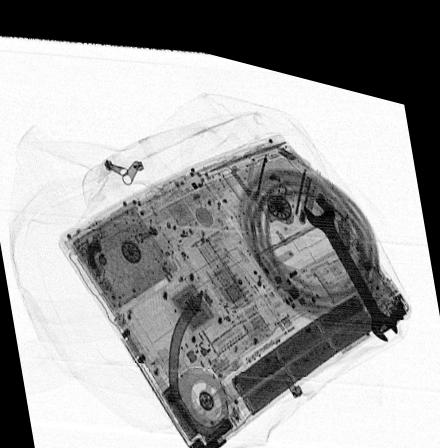Wrench: (301, 178, 400, 324)
